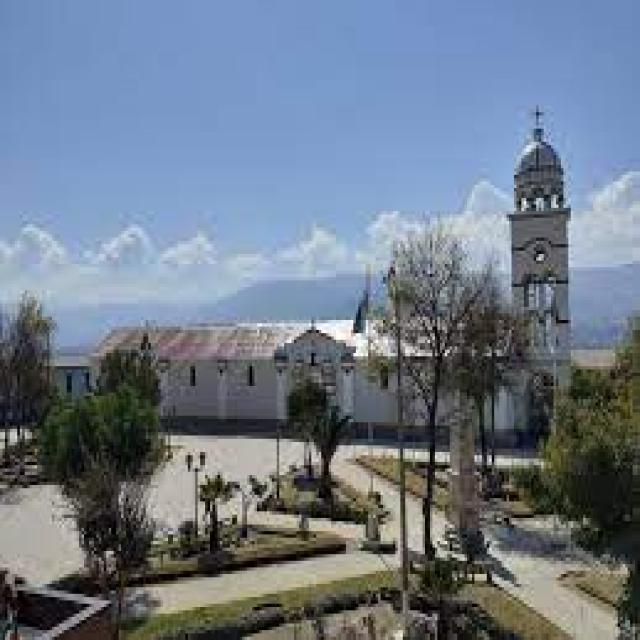CAMPANARIO: (508, 210, 570, 347)
CUPULA: (510, 108, 564, 208)
TORRES: (500, 100, 580, 453)
colonial-architecture-: (0, 89, 634, 453)
